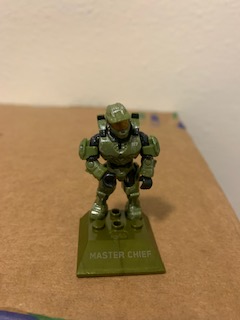chief: (79, 102, 163, 221)
spartan: (77, 100, 161, 219)
